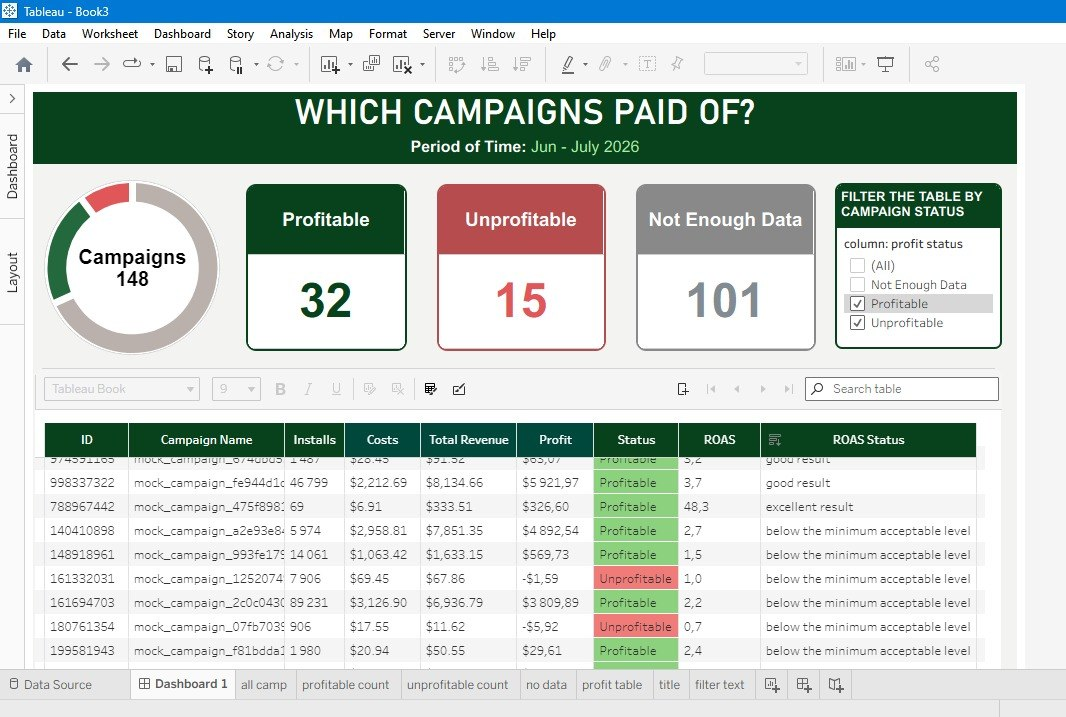

The dashboard page shown, as its layout file describes it:
{"tool":"tableau","page":{"name":"Dashboard 1","canvas":[1000,800],"ordinal":0},"visuals":[{"type":"worksheet","title":"title","mark":"Automatic","box":[8,8,984,77]},{"type":"worksheet","title":"all camp","box":[8,85,197.6,197]},{"type":"worksheet","title":"profitable count","mark":"Text","cols":["profit_status"],"box":[205.6,85,191.4,197]},{"type":"worksheet","title":"unprofitable count","mark":"Automatic","cols":["profit_status"],"box":[397,85,199,197]},{"type":"worksheet","title":"no data","mark":"Automatic","cols":["profit_status"],"box":[596,85,209.9,197]},{"type":"worksheet","title":"filter text","mark":"Automatic","box":[805.9,85,186.1,57]},{"type":"filter","title":"profit table","param":"[federated.1xx36910sn9nwz1djwyoz0qqrbt2].[none:profit_status:nk]","box":[805.9,142,186.1,140]},{"type":"worksheet","title":"profit table","box":[8,282,984,510]}]}

Visuals, with their boxes on the page's 1000x800 design canvas (x1, y1, x2, y2). These are canvas units, not pixel positions in the 1066x717 screenshot, which may show the page scaled, cropped or inside an application window:
"title" worksheet: BBox(8, 8, 992, 85)
"all camp" worksheet: BBox(8, 85, 206, 282)
"profitable count" worksheet (Text marks): BBox(206, 85, 397, 282)
"unprofitable count" worksheet: BBox(397, 85, 596, 282)
"no data" worksheet: BBox(596, 85, 806, 282)
"filter text" worksheet: BBox(806, 85, 992, 142)
"profit table" filter: BBox(806, 142, 992, 282)
"profit table" worksheet: BBox(8, 282, 992, 792)
